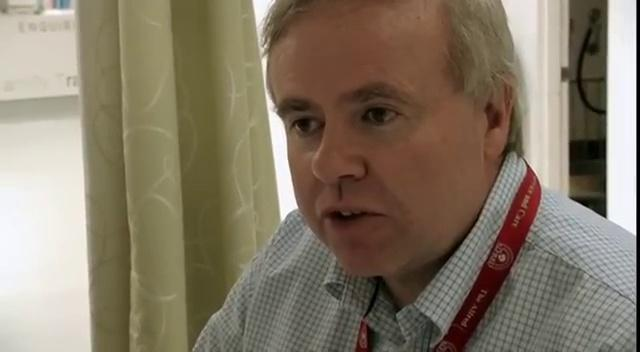others: (186, 0, 636, 351)
